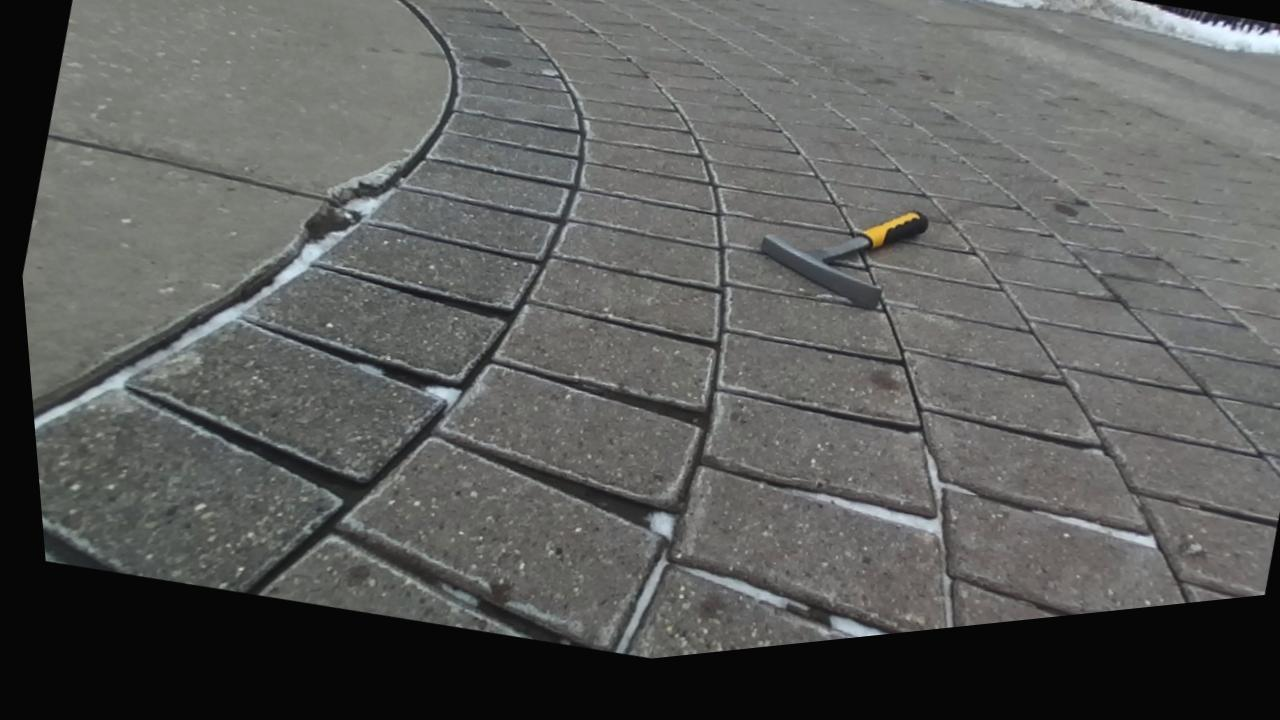pick: (761, 212, 928, 307)
